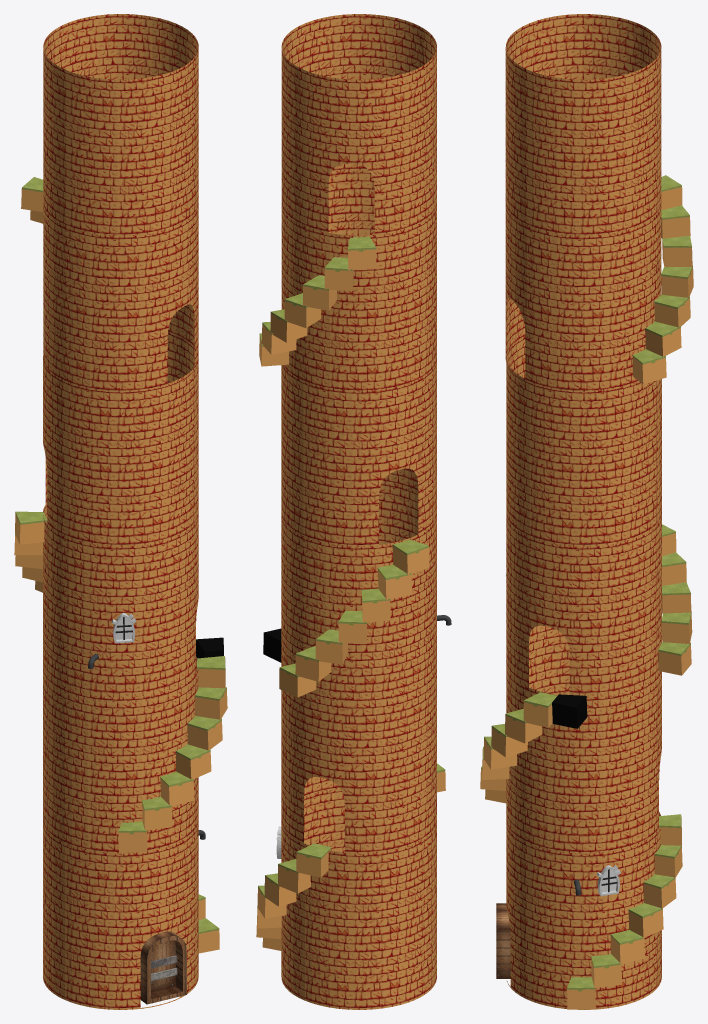
The model's file is tower test.FBX.
3 renders of one model, left to right at view 1: azimuth 30°, elevation 25°; view 2: azimuth 150°, elevation 25°; view 3: azimuth 270°, elevation 25°, orthographic.
Parts seen in each view (by area): view 1: Circle011, Circle010, Circle009, Box083, Box086, Box084, Box096, Box085, Box106, Box091, Box098, Box093 (+3 smaller); view 2: Circle011, Circle009, Circle010, Box106, Box107, Box092, Box115, Box110, Box108, Box117, Box111, Box116 (+10 smaller); view 3: Circle011, Circle010, Circle009, Box083, Box113, Box120, Box119, Box112, Box099, Box114, Box102, Box118 (+15 smaller).
Part boxes in pixels (<box>): Circle011: <box>43,14,198,392</box>; Circle010: <box>43,331,198,702</box>; Circle009: <box>43,656,198,1009</box>; Box083: <box>140,931,186,1004</box>; Box086: <box>187,716,222,750</box>; Box084: <box>175,744,211,779</box>; Box096: <box>160,771,194,806</box>; Box085: <box>195,687,227,719</box>; Box106: <box>15,511,47,544</box>; Box091: <box>142,796,172,830</box>; Box098: <box>197,656,225,688</box>; Box093: <box>118,821,147,852</box>; Circle011: <box>281,14,436,390</box>; Circle009: <box>281,666,436,1009</box>; Circle010: <box>281,362,436,702</box>; Box106: <box>392,538,429,574</box>; Box107: <box>377,564,411,599</box>; Box092: <box>296,843,331,877</box>; Box115: <box>348,236,376,270</box>; Box110: <box>315,629,347,664</box>; Box108: <box>361,588,390,622</box>; Box117: <box>303,275,336,310</box>; Box111: <box>295,645,331,681</box>; Box116: <box>324,257,353,291</box>; Circle011: <box>505,14,661,392</box>; Circle010: <box>506,336,661,702</box>; Circle009: <box>506,633,661,1009</box>; Box083: <box>496,903,510,978</box>; Box113: <box>552,694,587,728</box>; Box120: <box>645,321,681,356</box>; Box119: <box>654,295,690,328</box>; Box112: <box>658,642,691,675</box>; Box099: <box>628,903,663,937</box>; Box114: <box>632,349,666,384</box>; Box102: <box>610,930,644,964</box>; Box118: <box>661,265,693,298</box>.
Size of the model in its own units: 110 by 527 by 110.
Materials: 9 (6 with a texture image).
